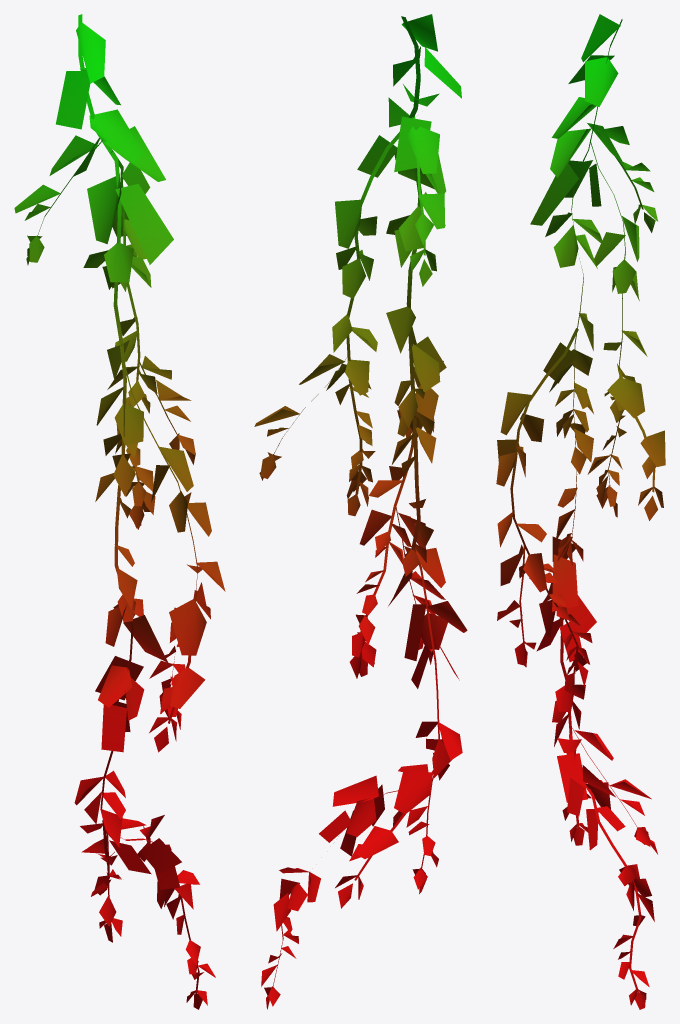
The model's file is Var9_LOD4.fbx.
3 renders of one model, left to right at view 1: azimuth 30°, elevation 25°; view 2: azimuth 150°, elevation 25°; view 3: azimuth 270°, elevation 25°, orthographic. The views are drawn at different scales.
Parts seen in each view (by area): view 1: _8vw0_Var9_LOD4; view 2: _8vw0_Var9_LOD4; view 3: _8vw0_Var9_LOD4.
Boxes of the visible parts, x1,y1,x2,y2 form: _8vw0_Var9_LOD4: (14, 14, 225, 1009); _8vw0_Var9_LOD4: (254, 14, 467, 1009); _8vw0_Var9_LOD4: (496, 14, 665, 1009).
Bounding box in the file's own units: 29.3 × 152 × 25.
